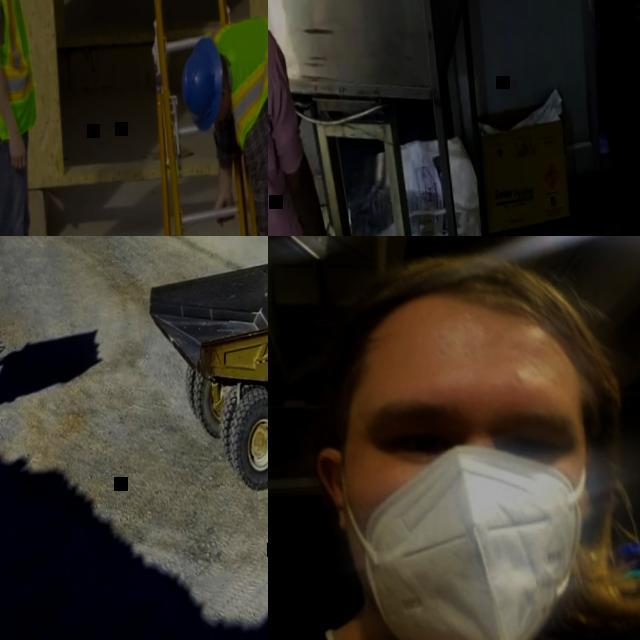helmet: (178, 36, 227, 133)
vest: (214, 12, 268, 152), (0, 0, 39, 140)
